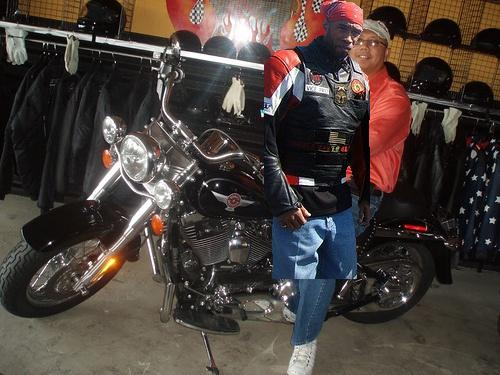tampered: (265, 1, 370, 279)
